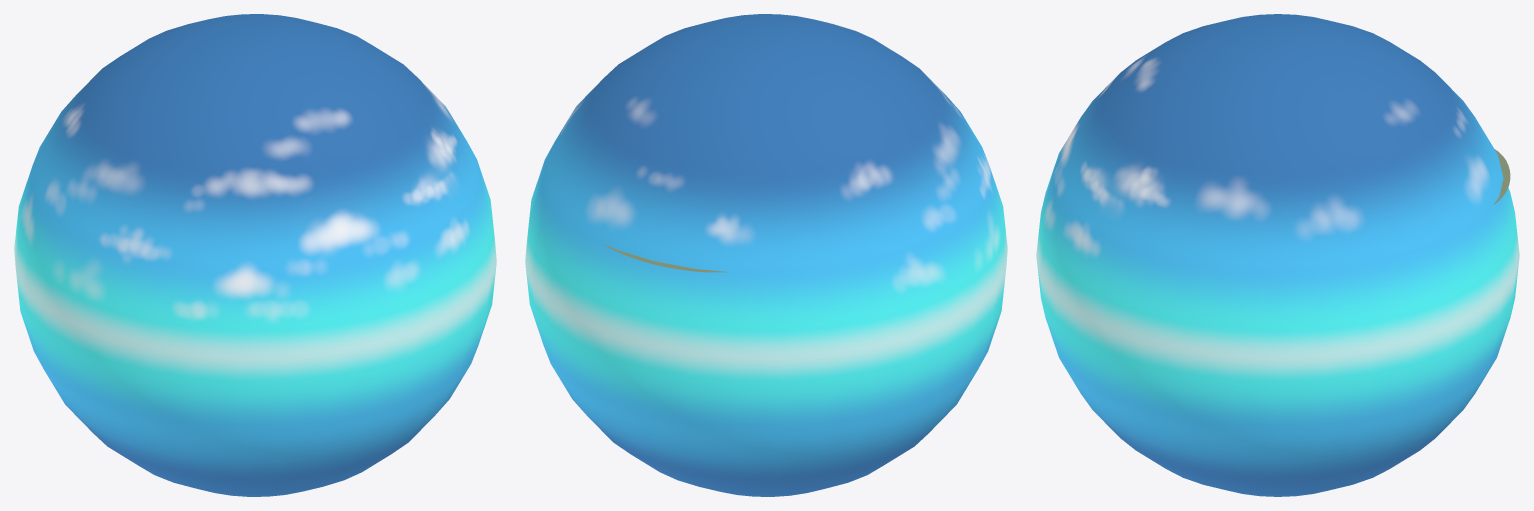
The model's file is oracle-park.glb.
The picture shows the model from 3 angles, left to right: view 1: azimuth 30°, elevation 25°; view 2: azimuth 150°, elevation 25°; view 3: azimuth 270°, elevation 25°; orthographic projection.
Visible parts, largest first — view 1: Skybox; view 2: Skybox; view 3: Skybox.
Boxes of the visible parts, box(x1,y1,x2,y2) form: Skybox: box(14, 14, 496, 496); Skybox: box(525, 14, 1007, 496); Skybox: box(1036, 14, 1519, 496).
Size of the model in its own units: 413 by 413 by 413.
20 materials, 10 textured.
